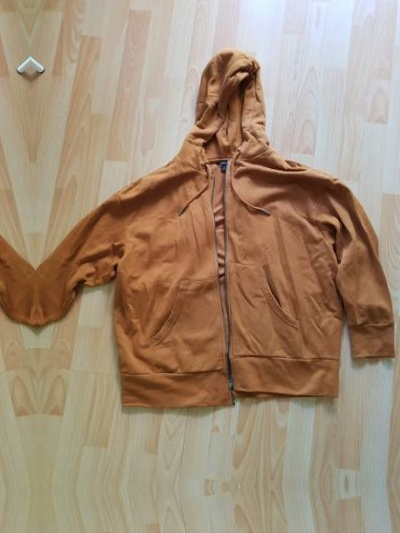Hoodie: (50, 49, 400, 420), (0, 58, 19, 430)
